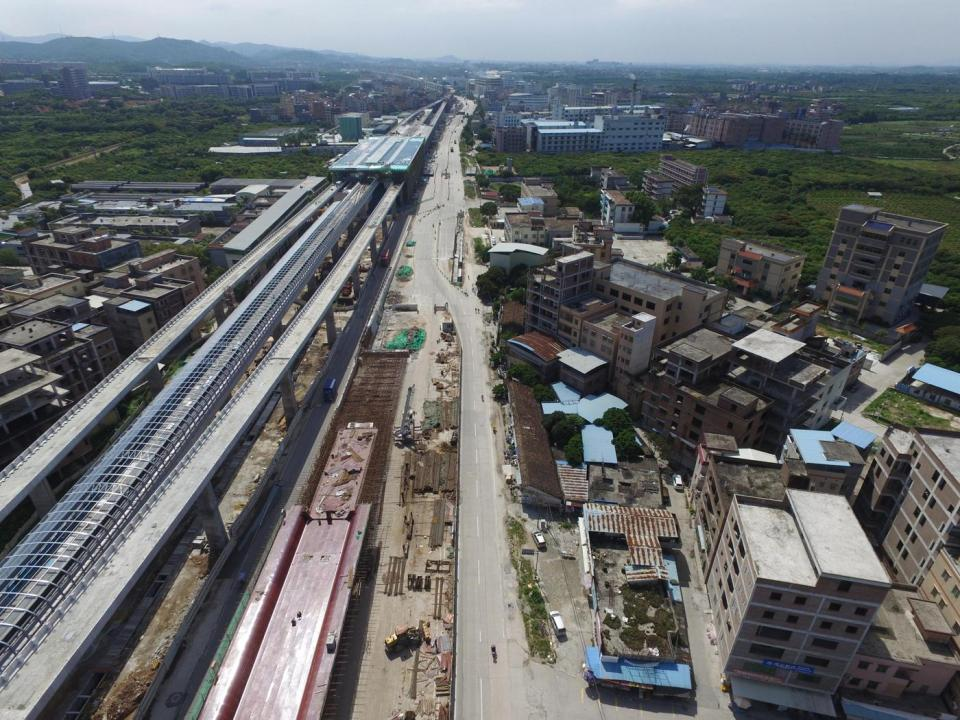car: (532, 530, 546, 549), (672, 475, 683, 491), (659, 486, 670, 502)
truck: (322, 378, 336, 402), (381, 248, 390, 266), (450, 146, 453, 152), (454, 140, 456, 144)
van: (548, 610, 566, 636)
